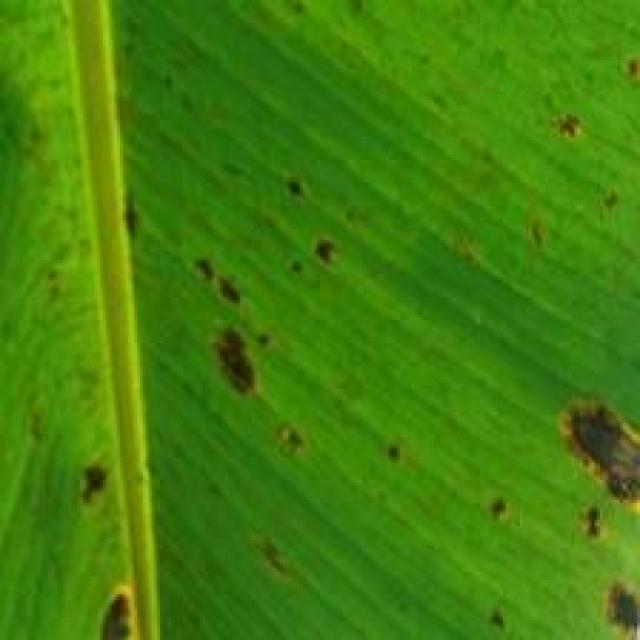Downey_mildrew: (110, 176, 350, 398), (556, 382, 640, 640), (50, 436, 141, 544), (90, 571, 174, 640), (538, 92, 608, 171), (270, 0, 392, 39), (255, 406, 328, 471), (370, 427, 419, 499), (260, 511, 296, 606), (593, 182, 630, 248), (508, 208, 558, 255), (477, 595, 528, 640), (595, 48, 640, 98), (480, 482, 516, 538)
